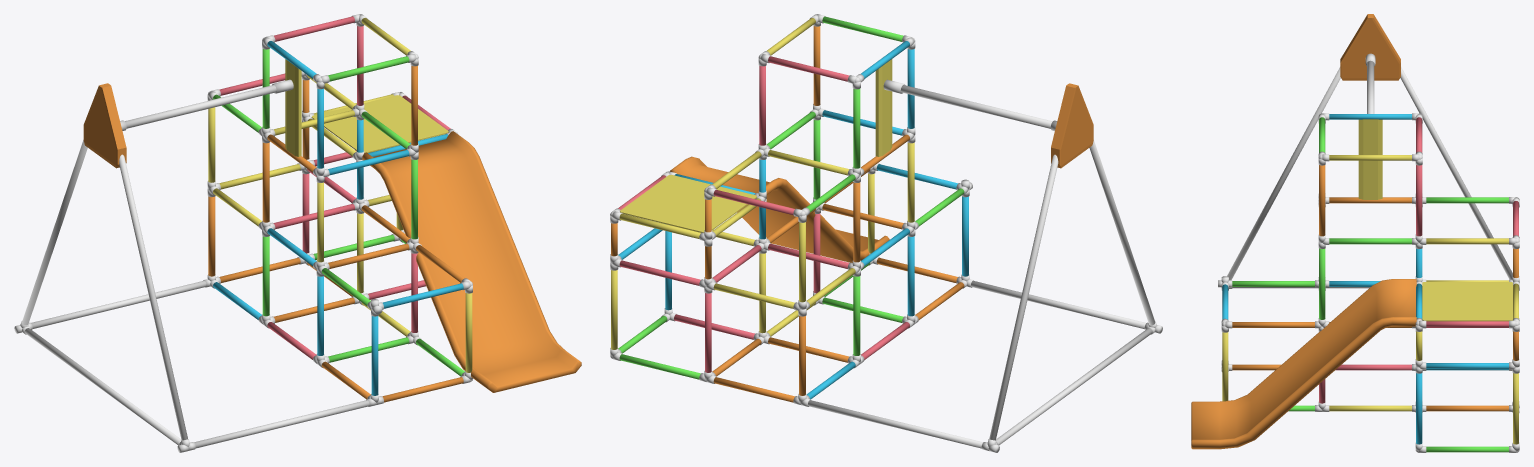
The model's file is ChildHobby.fbx.
The picture shows the model from 3 angles, left to right: view 1: azimuth 30°, elevation 25°; view 2: azimuth 150°, elevation 25°; view 3: azimuth 270°, elevation 25°; orthographic projection. The views are drawn at different scales.
Parts seen in each view (by area): view 1: ChildHobby; view 2: ChildHobby; view 3: ChildHobby.
Part boxes in pixels (x1=…): ChildHobby: x1=14, y1=14, x2=581, y2=452; ChildHobby: x1=610, y1=14, x2=1162, y2=452; ChildHobby: x1=1191, y1=14, x2=1519, y2=452.
Bounding box in the file's own units: 1.65 × 1.24 × 1.36.
